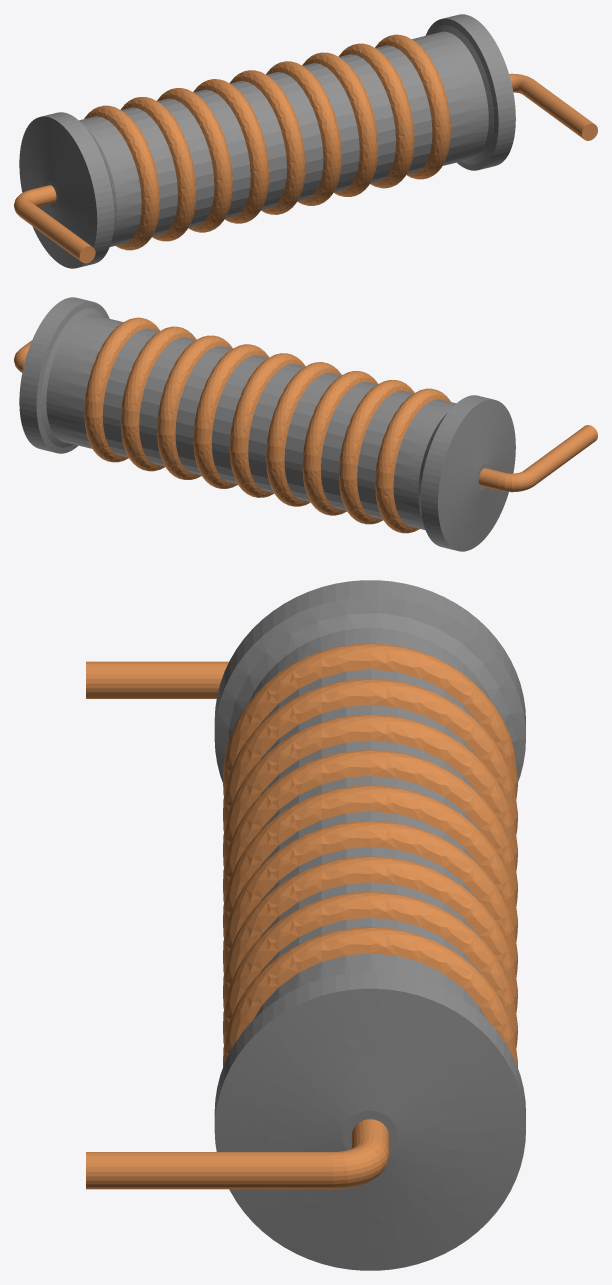
The model's file is L_Axial_L24.0mm_D7.5mm_P27.94mm_Horizontal_Fastron_MESC.glb.
3 renders of one model, top to bottom at view 1: azimuth 30°, elevation 25°; view 2: azimuth 150°, elevation 25°; view 3: azimuth 270°, elevation 25°, orthographic. The views are drawn at different scales.
Visible parts, largest first — view 1: Shape_IndexedFaceSet.029, Shape_IndexedFaceSet.005, Shape_IndexedFaceSet.026, Shape_IndexedFaceSet.011, Shape_IndexedFaceSet.015, Shape_IndexedFaceSet.025, Shape_IndexedFaceSet.013, Shape_IndexedFaceSet.017, Shape_IndexedFaceSet.007, Shape_IndexedFaceSet.023, Shape_IndexedFaceSet.019, Shape_IndexedFaceSet.021 (+14 smaller); view 2: Shape_IndexedFaceSet.029, Shape_IndexedFaceSet.005, Shape_IndexedFaceSet.026, Shape_IndexedFaceSet.011, Shape_IndexedFaceSet.007, Shape_IndexedFaceSet.023, Shape_IndexedFaceSet.013, Shape_IndexedFaceSet.019, Shape_IndexedFaceSet.021, Shape_IndexedFaceSet.025, Shape_IndexedFaceSet.017, Shape_IndexedFaceSet.015 (+14 smaller); view 3: Shape_IndexedFaceSet, Shape_IndexedFaceSet.027, Shape_IndexedFaceSet.008, Shape_IndexedFaceSet.017, Shape_IndexedFaceSet.013, Shape_IndexedFaceSet.023, Shape_IndexedFaceSet.015, Shape_IndexedFaceSet.019, Shape_IndexedFaceSet.021, Shape_IndexedFaceSet.011, Shape_IndexedFaceSet.025, Shape_IndexedFaceSet.007 (+15 smaller).
Part boxes in pixels (box(x1,y1,x2,y2)): Shape_IndexedFaceSet.029: box(19, 116, 97, 268); Shape_IndexedFaceSet.005: box(412, 31, 488, 165); Shape_IndexedFaceSet.026: box(79, 116, 141, 246); Shape_IndexedFaceSet.011: box(338, 43, 414, 188); Shape_IndexedFaceSet.015: box(266, 61, 341, 205); Shape_IndexedFaceSet.025: box(84, 105, 159, 250); Shape_IndexedFaceSet.013: box(302, 52, 378, 196); Shape_IndexedFaceSet.017: box(229, 70, 305, 214); Shape_IndexedFaceSet.007: box(375, 34, 450, 179); Shape_IndexedFaceSet.023: box(120, 97, 196, 241); Shape_IndexedFaceSet.019: box(193, 79, 268, 223); Shape_IndexedFaceSet.021: box(157, 88, 232, 232); Shape_IndexedFaceSet.029: box(438, 399, 515, 551); Shape_IndexedFaceSet.005: box(46, 314, 123, 448); Shape_IndexedFaceSet.026: box(393, 399, 455, 530); Shape_IndexedFaceSet.011: box(120, 326, 196, 471); Shape_IndexedFaceSet.007: box(84, 317, 159, 462); Shape_IndexedFaceSet.023: box(338, 380, 414, 524); Shape_IndexedFaceSet.013: box(157, 335, 232, 479); Shape_IndexedFaceSet.019: box(266, 362, 341, 506); Shape_IndexedFaceSet.021: box(302, 371, 377, 515); Shape_IndexedFaceSet.025: box(375, 388, 450, 533); Shape_IndexedFaceSet.017: box(229, 353, 305, 497); Shape_IndexedFaceSet.015: box(193, 344, 269, 488); Shape_IndexedFaceSet: box(214, 988, 525, 1270); Shape_IndexedFaceSet.027: box(214, 597, 525, 782); Shape_IndexedFaceSet.008: box(86, 1152, 332, 1189); Shape_IndexedFaceSet.017: box(223, 785, 517, 941); Shape_IndexedFaceSet.013: box(223, 856, 517, 1012); Shape_IndexedFaceSet.023: box(223, 679, 517, 834); Shape_IndexedFaceSet.015: box(223, 821, 517, 976); Shape_IndexedFaceSet.019: box(223, 750, 517, 905); Shape_IndexedFaceSet.021: box(223, 714, 517, 870); Shape_IndexedFaceSet.011: box(223, 892, 517, 1047); Shape_IndexedFaceSet.025: box(223, 643, 517, 799); Shape_IndexedFaceSet.007: box(223, 927, 517, 1067).
Size of the model in its own units: 11.35 by 2.95 by 4.17.
